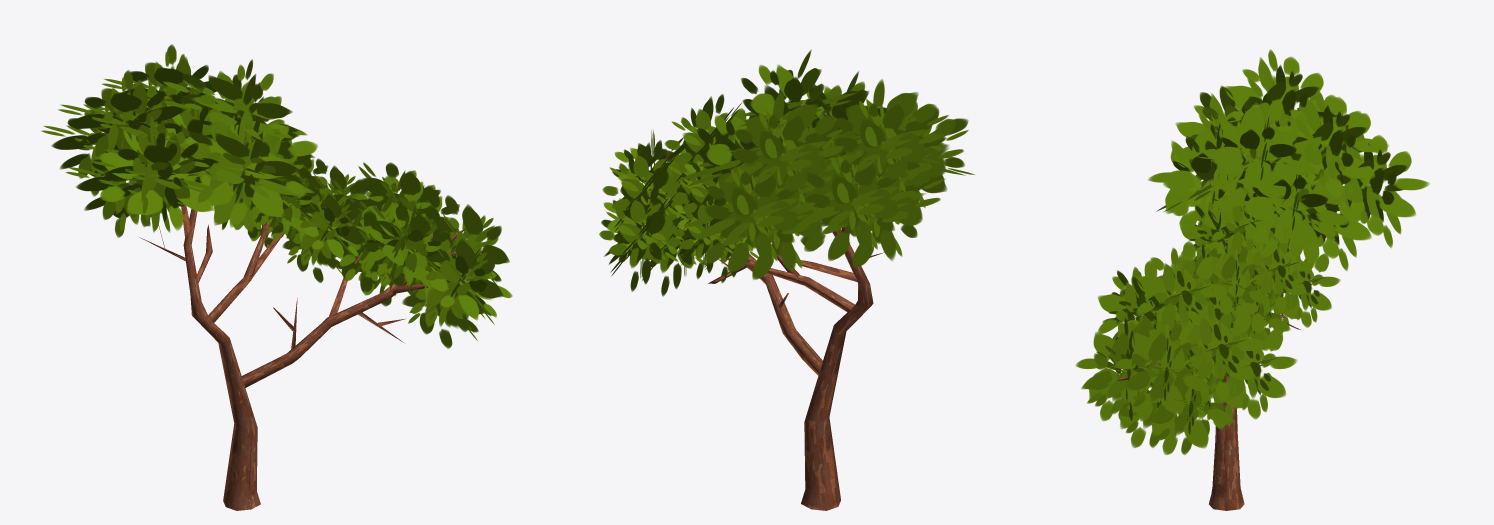
The model's file is tree (645 fc).glb.
3 views of the same model, side by side, from view 1: azimuth 30°, elevation 25°; view 2: azimuth 150°, elevation 25°; view 3: azimuth 270°, elevation 25° (orthographic). The views are drawn at different scales.
Visible parts, largest first — view 1: bush.001, bush.003, DeadTree_6, bush.002; view 2: bush.001, bush.003, DeadTree_6, bush.002; view 3: bush.001, bush.003, bush.002, DeadTree_6.
Boxes of the visible parts, box(x1,y1,x2,y2) form: bush.001: box(41, 44, 317, 237); bush.003: box(327, 162, 512, 348); DeadTree_6: box(139, 205, 472, 510); bush.002: box(234, 136, 364, 282); bush.001: box(679, 49, 974, 279); bush.003: box(599, 94, 767, 296); DeadTree_6: box(666, 154, 884, 510); bush.002: box(672, 140, 758, 283); bush.001: box(1148, 49, 1429, 275); bush.003: box(1075, 241, 1297, 454); bush.002: box(1177, 186, 1340, 350); DeadTree_6: box(1118, 312, 1300, 510).
Bounding box in the file's own units: 8.24 × 8.28 × 7.66.
Materials: 4 (4 with a texture image).
